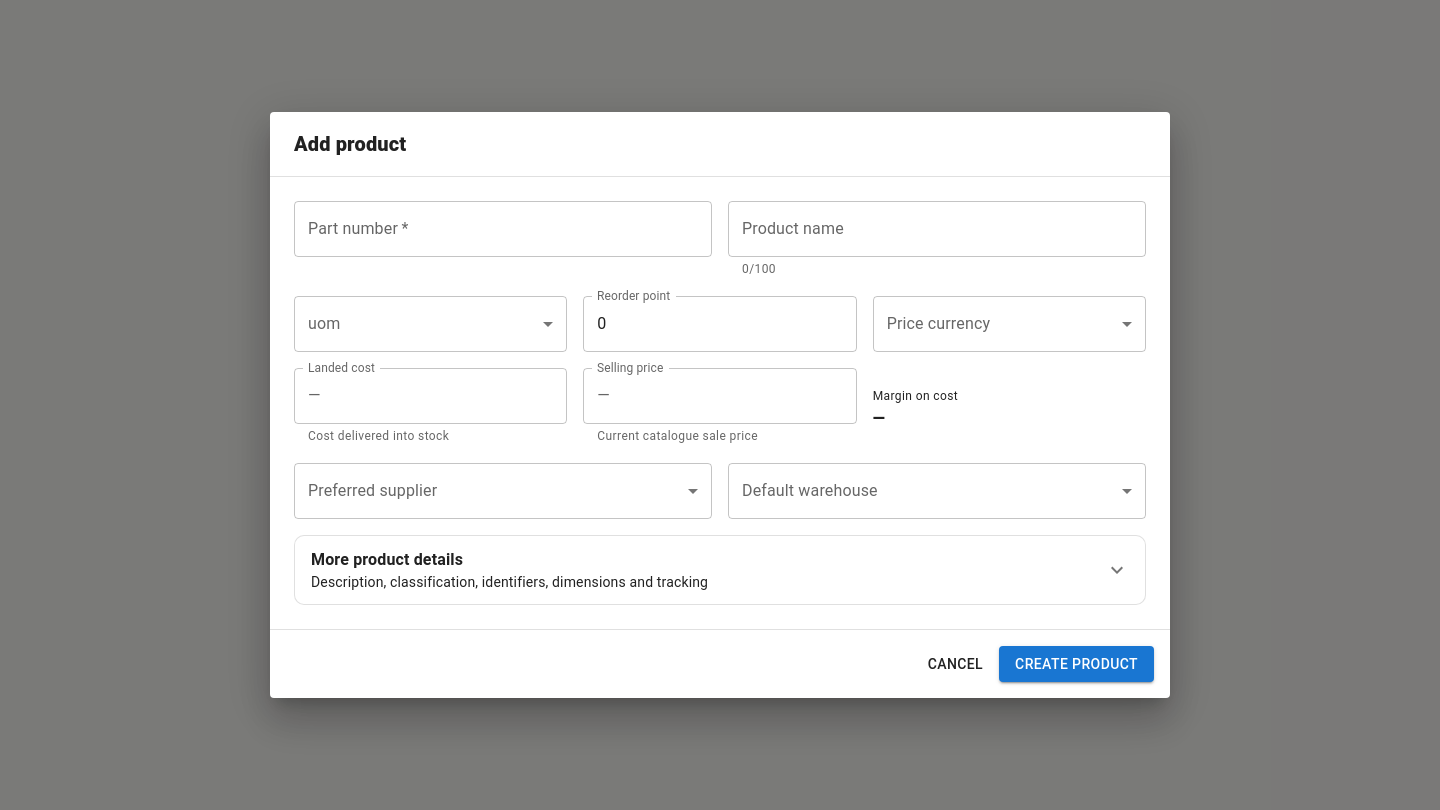
Test case: Product pricing is one governed tuple › does not create a partly priced product
This screenshot has width=1440, height=810.
Type "VLV-200" into the field labelled "Part number" at (503, 229), box [294,201,712,257]
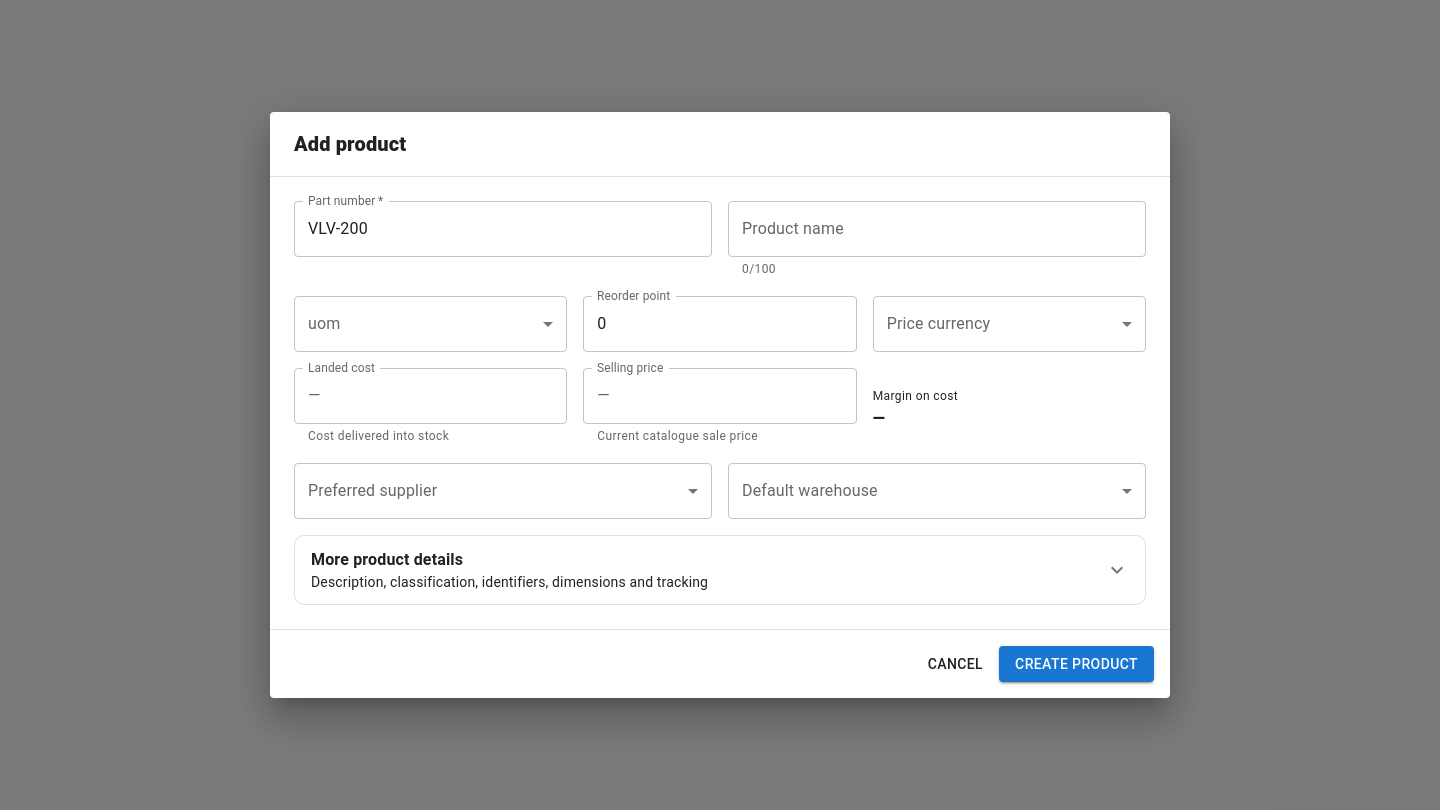
Type "25.50" into the number field labelled "Landed cost" at (448, 396), box [329,368,567,424]
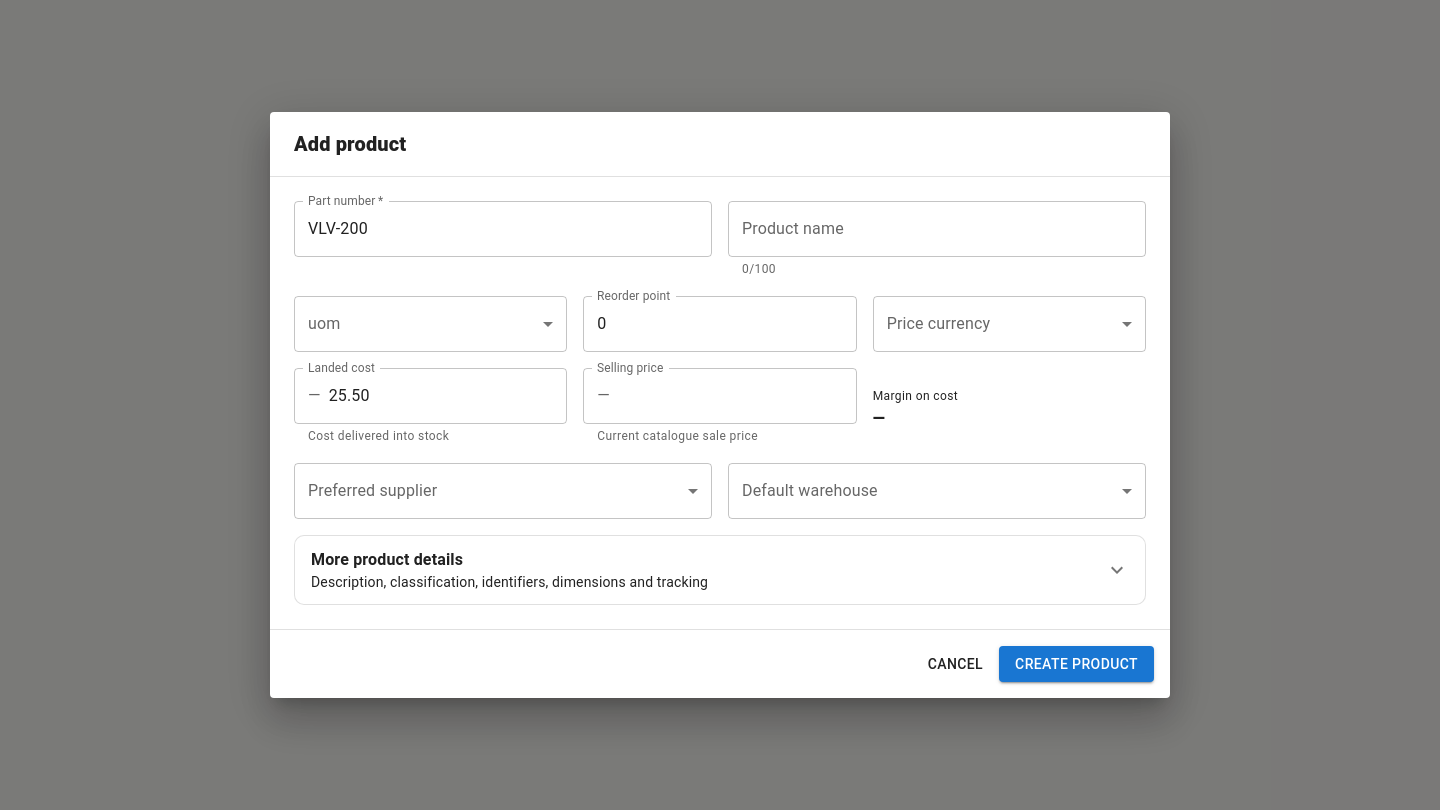
Click the button "Create product" at (1077, 664), box [999,646,1154,682]
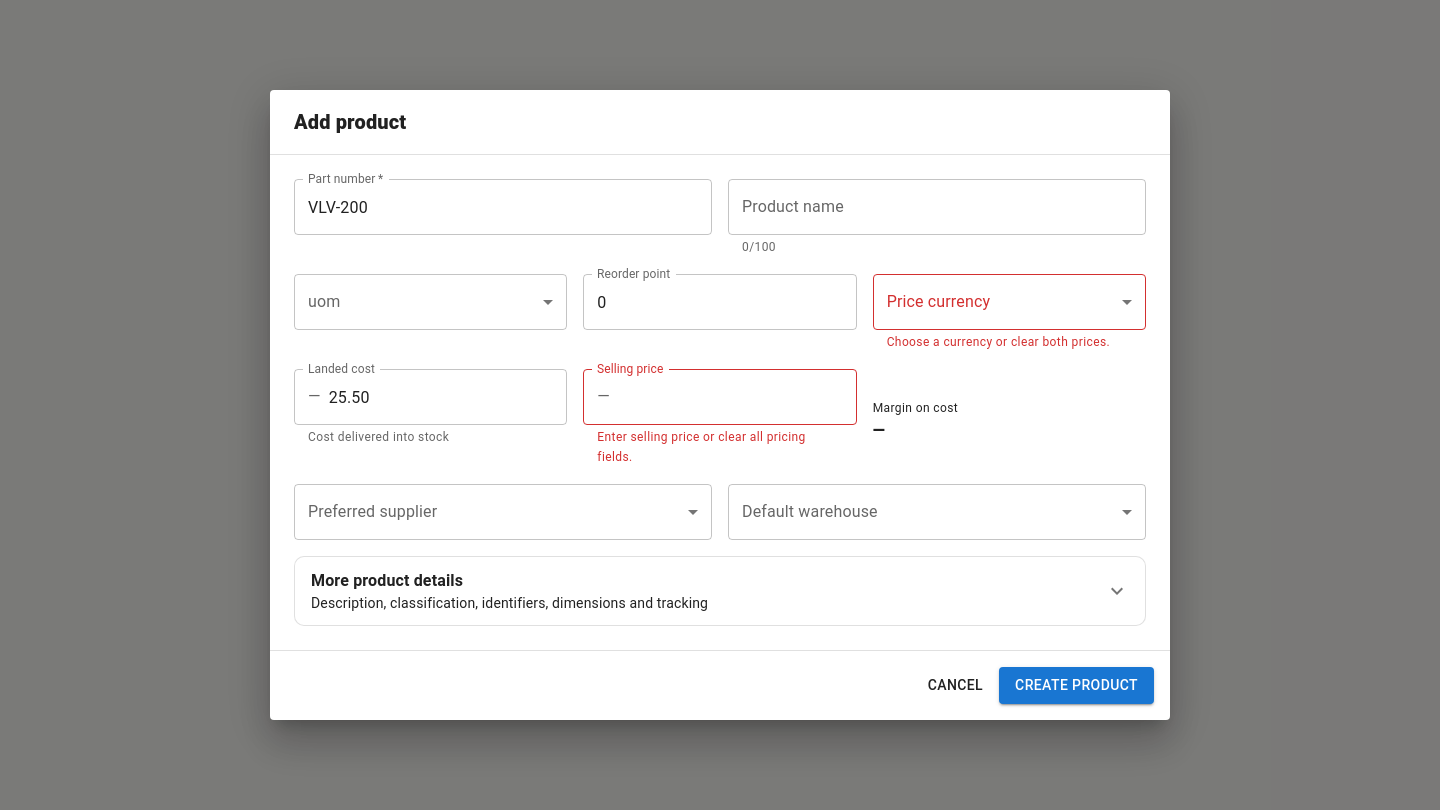
Now the text "Enter selling price or clear all pricing fields." is shown, box [597,430,806,464]
Now the text "Choose a currency or clear both prices." is shown, box [887,333,1132,353]
